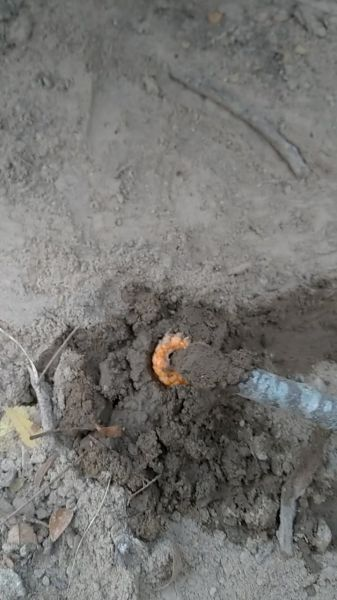eggs: (149, 326, 216, 394)
